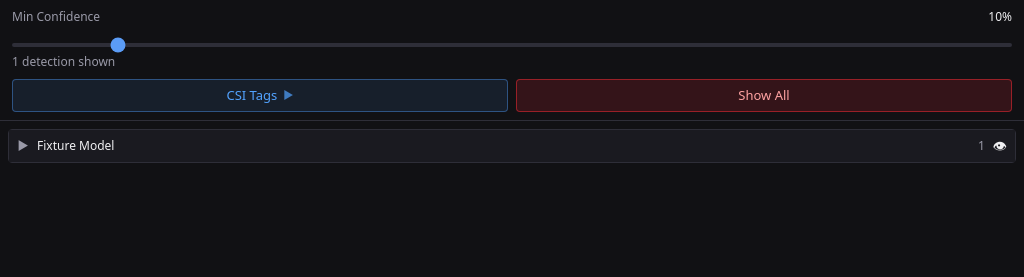
Test: DetectionPanel synchronous publication tails — same-ID lifecycle retirement › AnnotationListItem row filtering does not publish A search text into successor B
This screenshot has width=1024, height=277.
Later steps or results of the test are not shown.
Click the button "▶" at [23, 146], box [17,137,29,155]
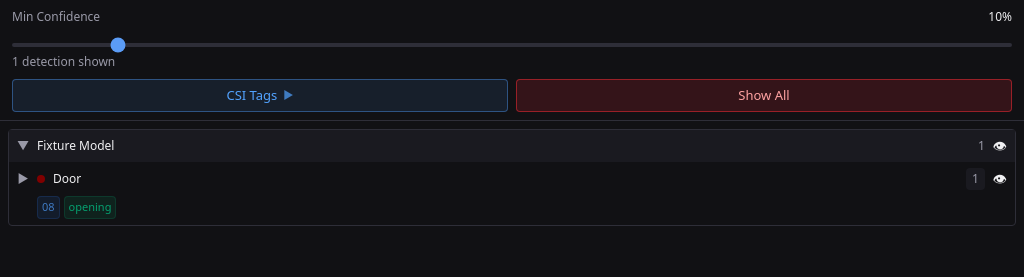
Click the button "▶" at [23, 179], box [17,170,29,188]
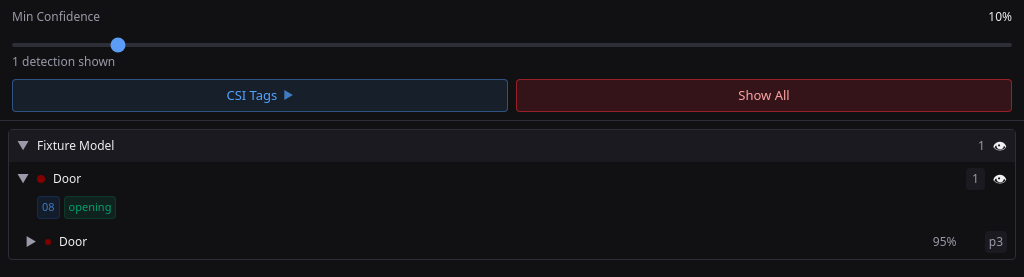
Now the text titled "Door" is shown, box [59,232,87,250]
